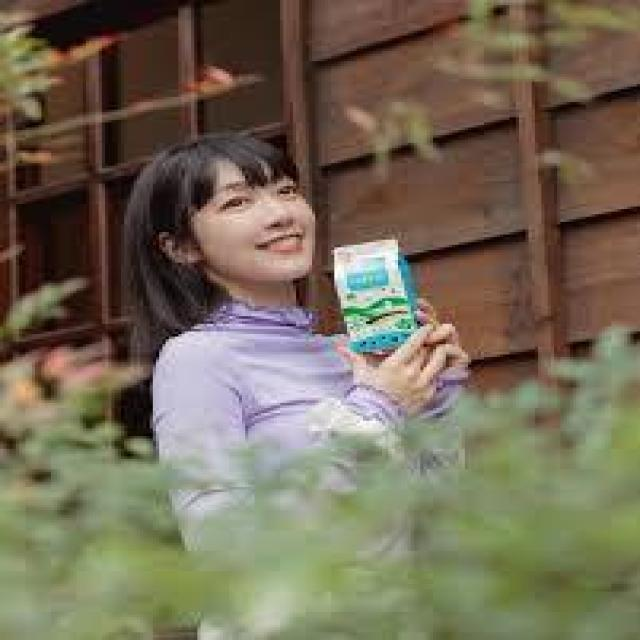TongYi_UnsweetenedBlackSoyMilk: (326, 228, 428, 352)
